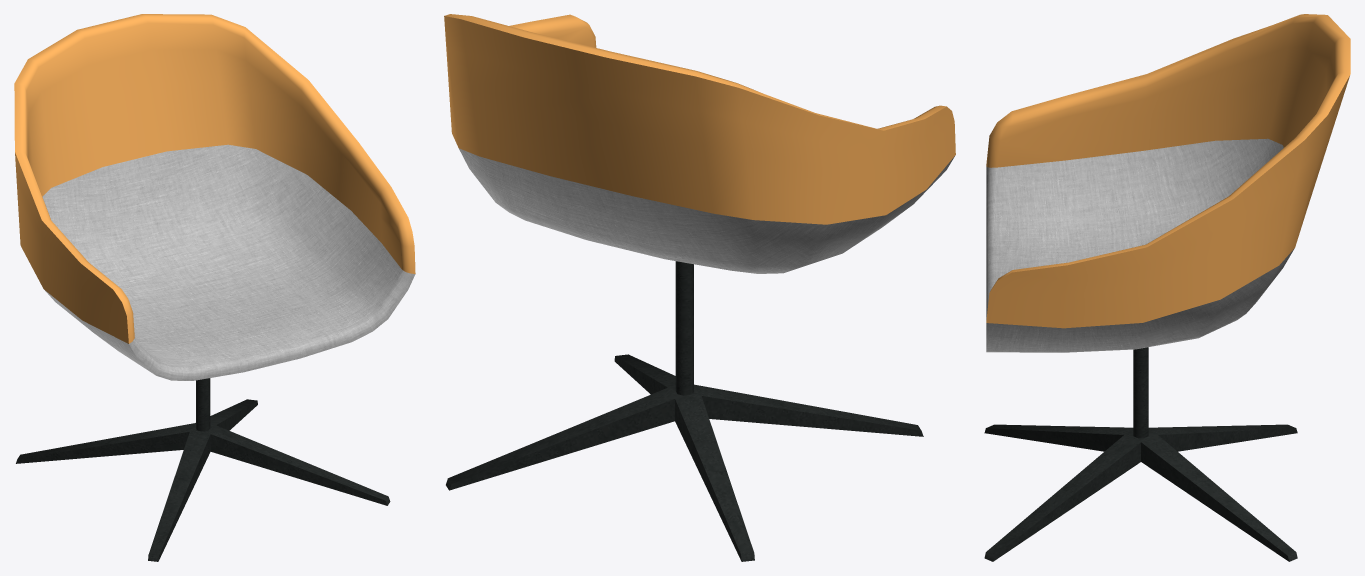
File: chair_4_3.glb
3 renders of one model, left to right at view 1: azimuth 30°, elevation 25°; view 2: azimuth 150°, elevation 25°; view 3: azimuth 270°, elevation 25°, orthographic. The views are drawn at different scales.
Parts seen in each view (by area): view 1: chair_4_3; view 2: chair_4_3; view 3: chair_4_3.
Part boxes in pixels (x1,y1,x2,y2): chair_4_3: [14, 14, 415, 561]; chair_4_3: [444, 14, 955, 561]; chair_4_3: [984, 14, 1350, 561].
Size of what is drawn, in the model's own units: 0.9682 by 1.15 by 0.8641.
Materials: 3 (3 with a texture image).
